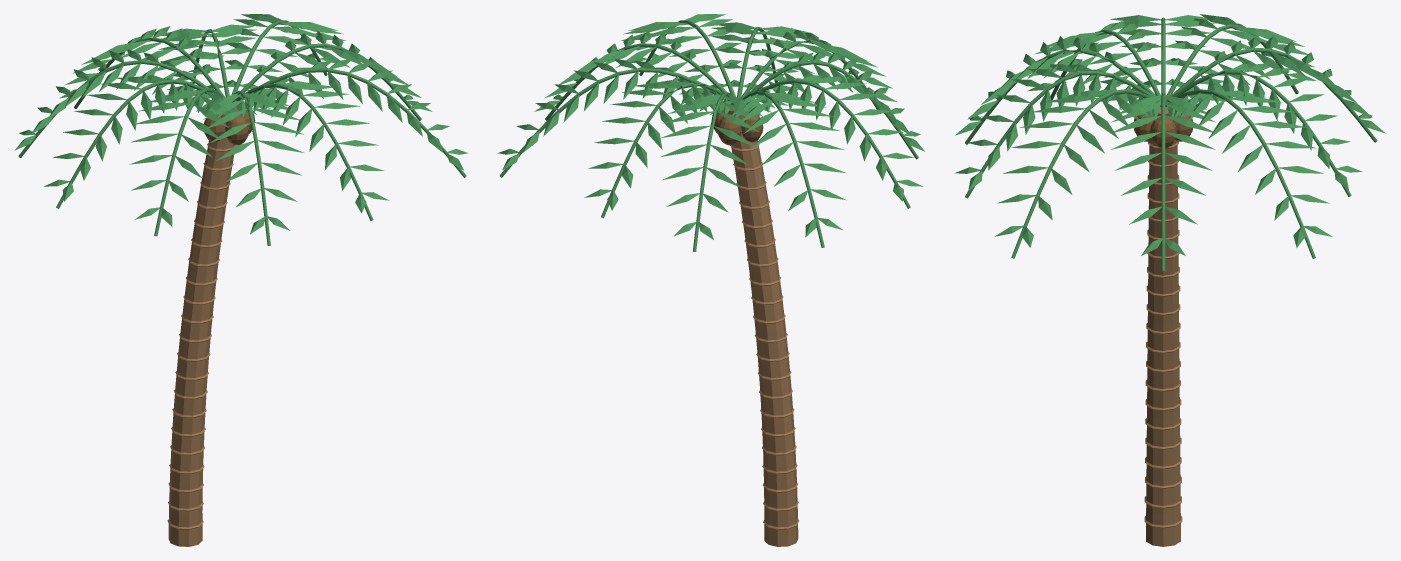
File: palm-1.glb
3 renders of one model, left to right at view 1: azimuth 30°, elevation 25°; view 2: azimuth 150°, elevation 25°; view 3: azimuth 270°, elevation 25°, orthographic. The views are drawn at different scales.
Parts seen in each view (by area): view 1: palm-1; view 2: palm-1; view 3: palm-1.
Part boxes in pixels (x1=…): palm-1: x1=14, y1=14, x2=468, y2=546; palm-1: x1=497, y1=14, x2=924, y2=546; palm-1: x1=954, y1=14, x2=1386, y2=546.
Size of the model in its own units: 5.48 by 6.6 by 5.16.
